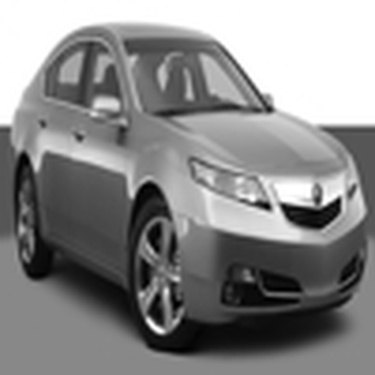car: (1, 13, 365, 339)
